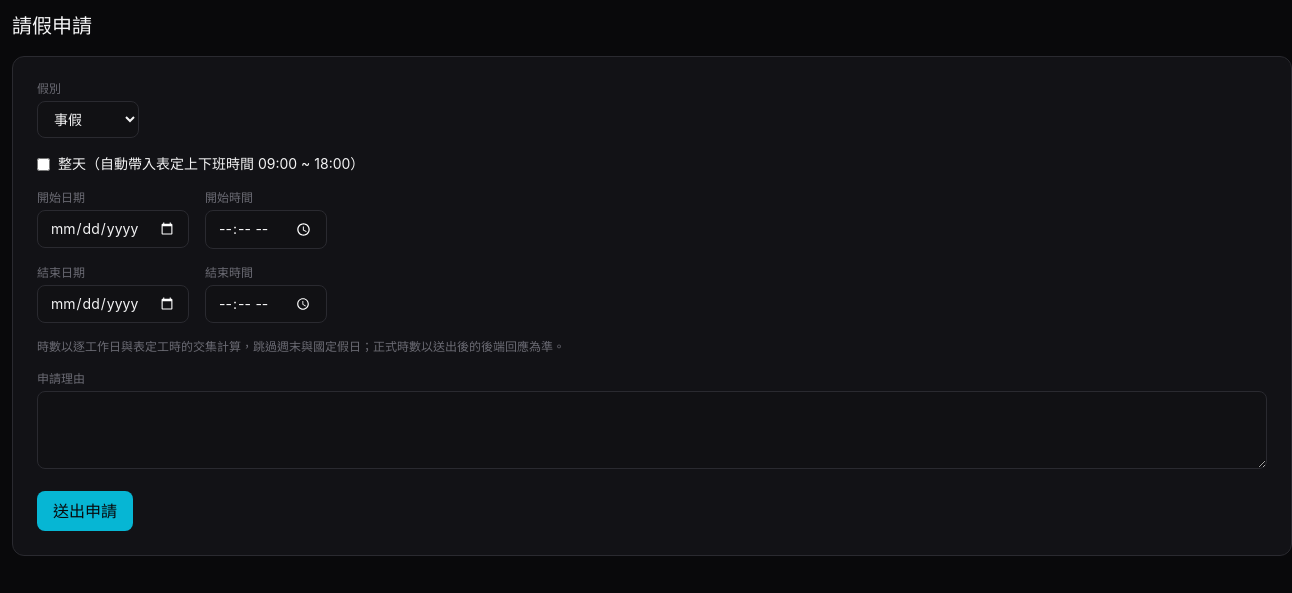
勾選整天會自動帶入表定上下班時間並停用時間欄位
This screenshot has width=1292, height=593.
Check: the text "整天（自動帶入表定上下班時間 09:00 ~ 18:00）" is shown, box [37,155,364,172]
Click the checkbox labelled "整天（自動帶入表定上下班時間 09:00 ~ 18:00）". click: point(44, 164)
box: [37,158,50,170]
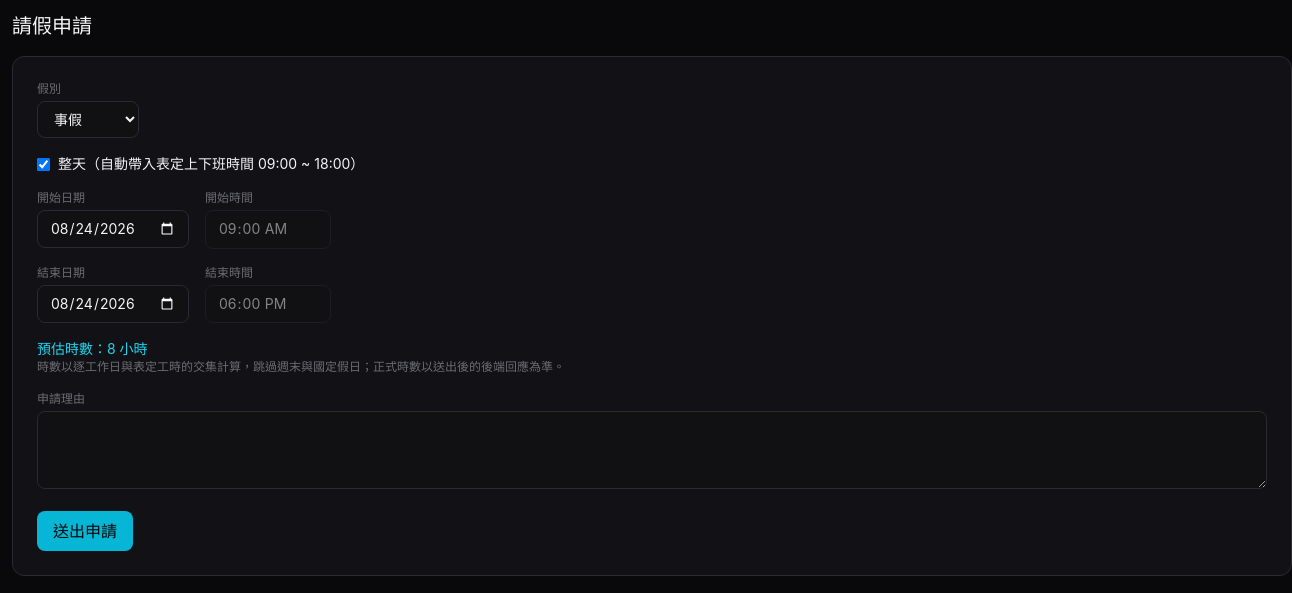
Check: the time field labelled "開始時間" holds "09:00", box [205,210,331,249]
Check: the time field labelled "開始時間" is disabled, box [205,210,331,249]
Check: the time field labelled "結束時間" holds "18:00", box [205,285,331,323]
Click the checkbox labelled "整天（自動帶入表定上下班時間 09:00 ~ 18:00）". click: point(44, 164)
box: [37,158,50,170]
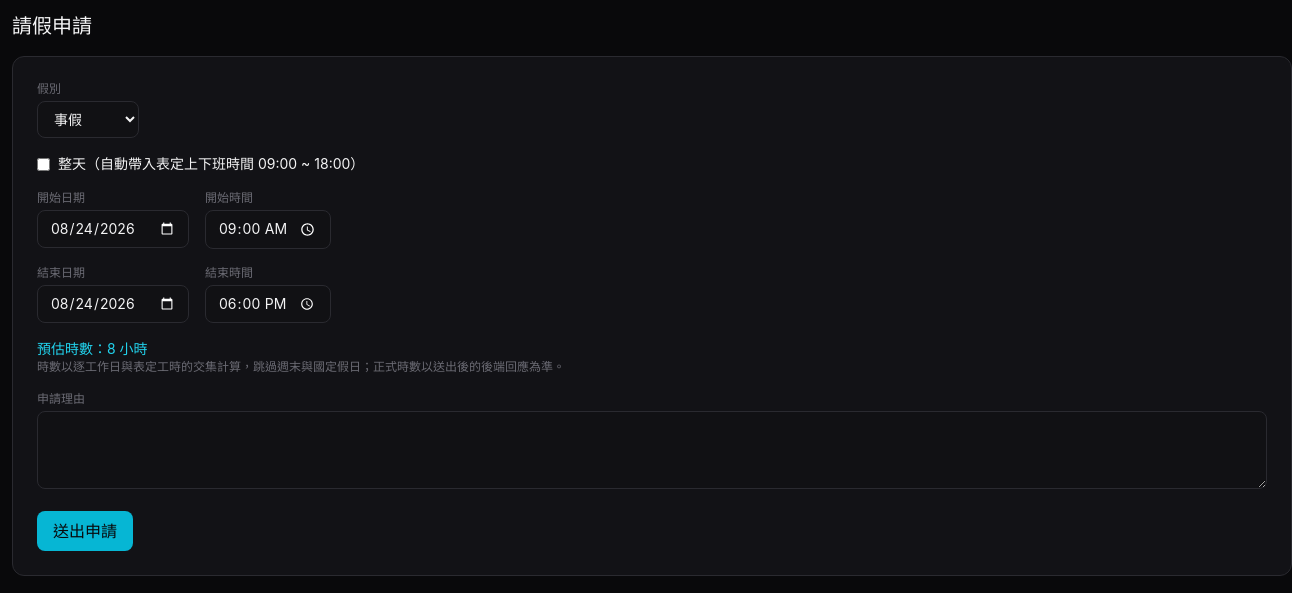
Check: the time field labelled "開始時間" is enabled, box [205,210,331,249]
